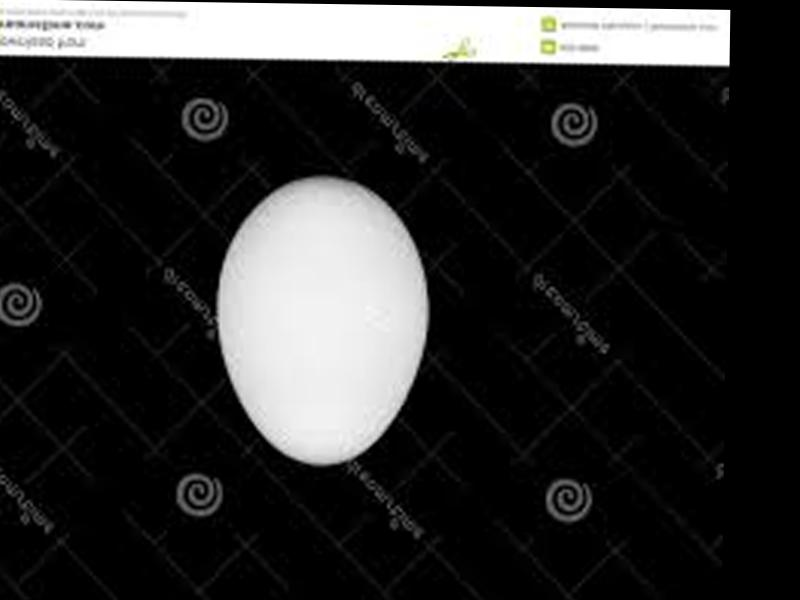Eggs: (217, 176, 435, 465)
